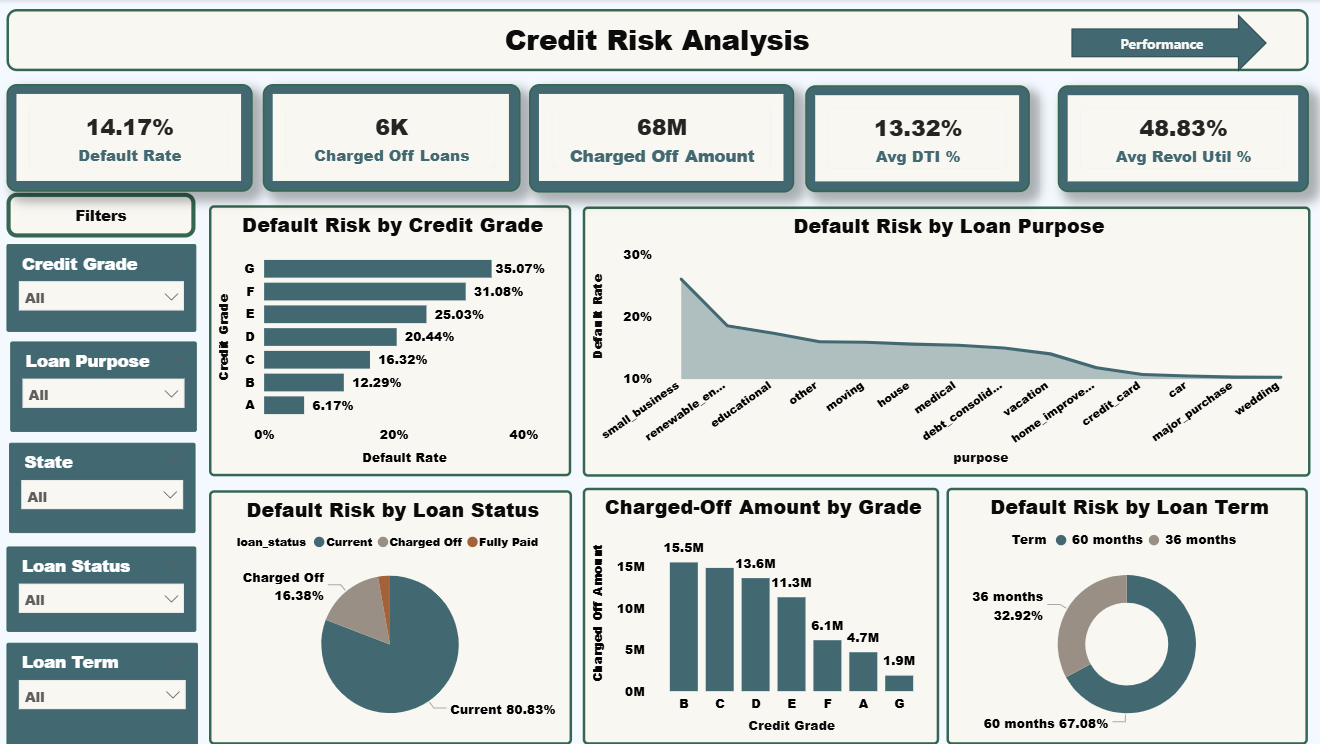

What the dashboard file says about the page in this screenshot:
{"tool":"powerbi","page":{"name":"Risk Analysis","canvas":[1280,720],"ordinal":2},"visuals":[{"type":"areaChart","title":"Default Risk by Loan Purpose","fields":{"Category":["bank finance_master.purpose"],"Y":["bank finance_master.Default Rate"]},"box":[563.4,200.3,702.1,260.6],"z":0},{"type":"barChart","title":"Default Risk by Credit Grade","fields":{"Category":["bank finance_master.grade"],"Y":["bank finance_master.Default Rate"]},"box":[202.7,199.1,349.9,261.8],"z":1000},{"type":"slicer","fields":{"Values":["bank finance_master.grade"]},"box":[7.2,236.5,183.4,84.5],"z":2000},{"type":"slicer","fields":{"Values":["bank finance_master.loan_status"]},"box":[7.2,528.4,183.4,82],"z":3000},{"type":"slicer","fields":{"Values":["bank finance_master.purpose"]},"box":[10.9,330.6,179.8,86.9],"z":4000},{"type":"slicer","fields":{"Values":["bank finance_master.term"]},"box":[7.4,620.8,185,99.3],"z":5000},{"type":"slicer","fields":{"Values":["bank finance_master.addr_state"]},"box":[9.7,428.3,179.8,86.9],"z":6000},{"type":"textbox","box":[7.2,9.7,1257.1,60.3],"z":7000},{"type":"textbox","box":[7.2,187,182.2,43.4],"z":8000},{"type":"group","id":"g1","title":"Group 1","box":[7.6,82.1,1257.3,104.8],"z":9000},{"type":"cardVisual","fields":{"Data":["bank finance_master.Default Rate"]},"box":[7.6,82.1,237.6,104.2],"z":9000,"group":"g1"},{"type":"donutChart","title":"Default Risk by Loan Term","fields":{"Category":["bank finance_master.term"],"Y":["bank finance_master.Default Rate"]},"box":[915,471.8,348.9,248.3],"z":10000},{"type":"cardVisual","fields":{"Data":["bank finance_master.Charged Off Loans"]},"box":[254.9,82.1,248.5,104.2],"z":11000,"group":"g1"},{"type":"pieChart","title":"Default Risk by Loan Status","fields":{"Category":["bank finance_master.loan_status"],"Y":["bank finance_master.Default Rate"]},"box":[202.4,474.3,350.1,245.8],"z":11000},{"type":"cardVisual","fields":{"Data":["bank finance_master.Charged Off Amount"]},"box":[511.5,82.1,256.2,104.8],"z":12000,"group":"g1"},{"type":"columnChart","title":"Charged-Off Amount by Grade","fields":{"Y":["bank finance_master.Charged Off Amount"],"Category":["bank finance_master.grade"]},"box":[563.6,471.8,343.9,248.3],"z":12000},{"type":"shape","box":[1035.7,14.9,188.5,55.8],"z":13000},{"type":"cardVisual","fields":{"Data":["bank finance_master.Avg Revol Util"]},"box":[1022.6,83.5,242.3,103.4],"z":13000,"group":"g1"},{"type":"cardVisual","fields":{"Data":["bank finance_master.Avg DTI"]},"box":[779,83.5,217.1,103.4],"z":14000,"group":"g1"}]}

Visuals, with their boxes in screenshot pixels (x1, y1, x2, y2), scaled from the page's 1280x720 canvas onto the 1320x744 screenshot:
"Default Risk by Loan Purpose" areaChart: (581,207,1305,476)
"Default Risk by Credit Grade" barChart: (209,206,570,476)
slicer - bank finance_master.grade: (7,244,197,332)
slicer - bank finance_master.loan_status: (7,546,197,631)
slicer - bank finance_master.purpose: (11,342,197,431)
slicer - bank finance_master.term: (8,641,198,743)
slicer - bank finance_master.addr_state: (10,443,195,532)
textbox: (7,10,1304,72)
textbox: (7,193,195,238)
"Group 1" group: (8,85,1304,193)
cardVisual - bank finance_master.Default Rate: (8,85,253,193)
"Default Risk by Loan Term" donutChart: (944,488,1303,743)
cardVisual - bank finance_master.Charged Off Loans: (263,85,519,193)
"Default Risk by Loan Status" pieChart: (209,490,570,743)
cardVisual - bank finance_master.Charged Off Amount: (527,85,792,193)
"Charged-Off Amount by Grade" columnChart: (581,488,936,743)
shape: (1068,15,1262,73)
cardVisual - bank finance_master.Avg Revol Util: (1055,86,1304,193)
cardVisual - bank finance_master.Avg DTI: (803,86,1027,193)
